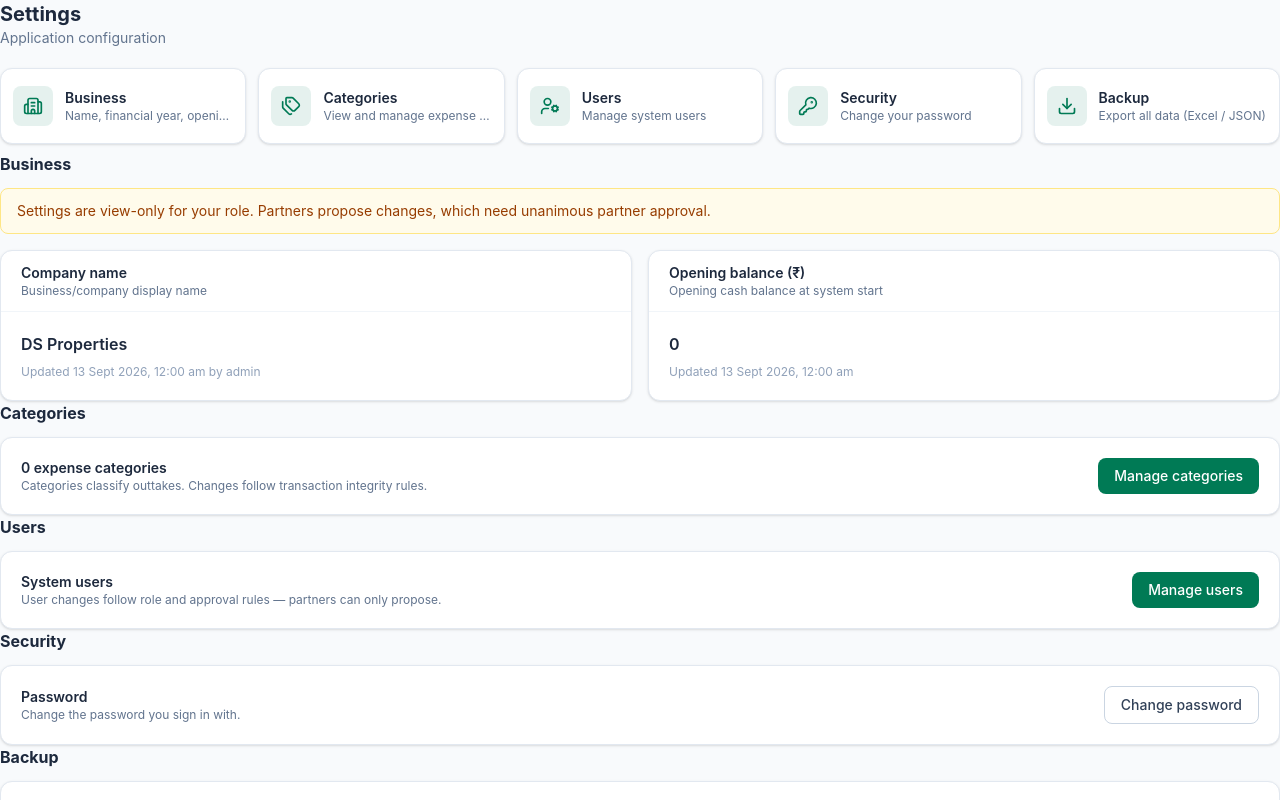
Settings page › opens the secure change-password flow from the security section
Check: the heading "Company name" is shown, box [21,264,127,281]
Click the button "Change password" at (1181, 705), box [1104,686,1259,724]
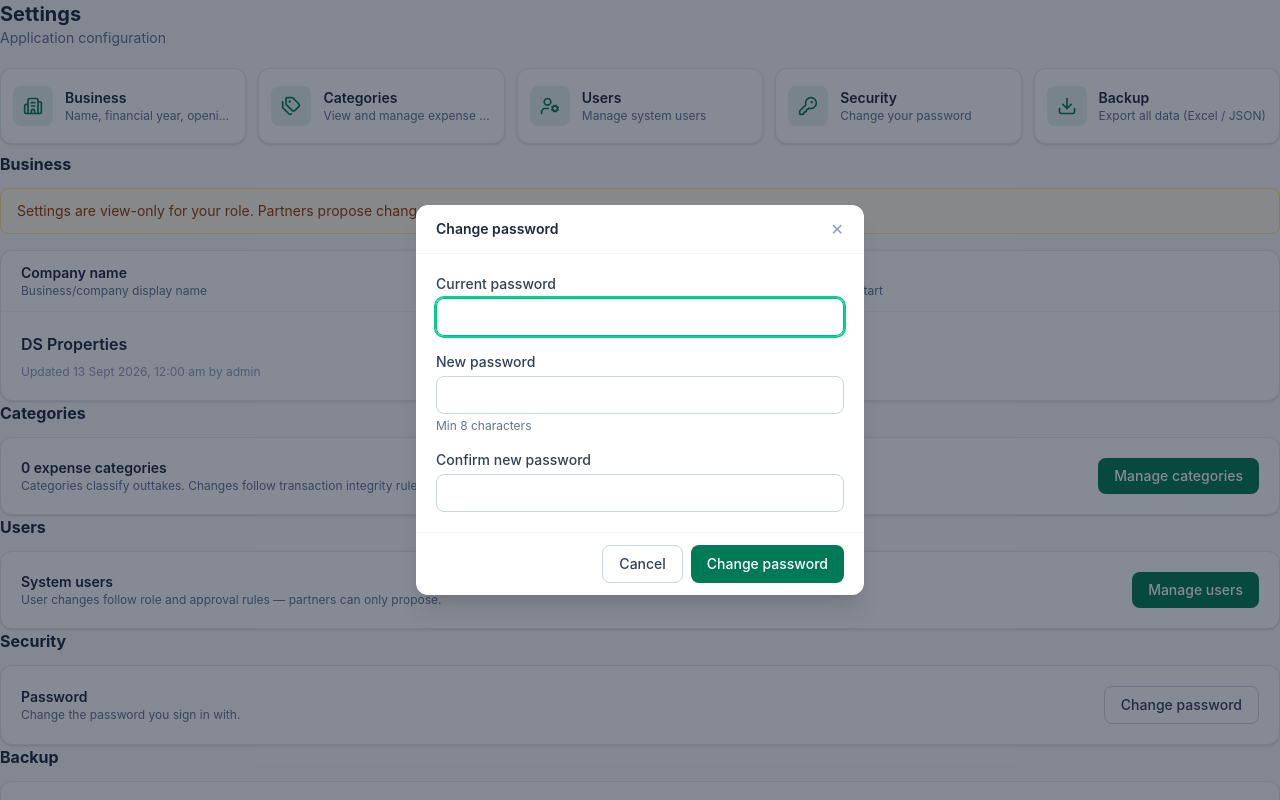
Check: the text "Current password" is shown, box [436,275,556,292]
